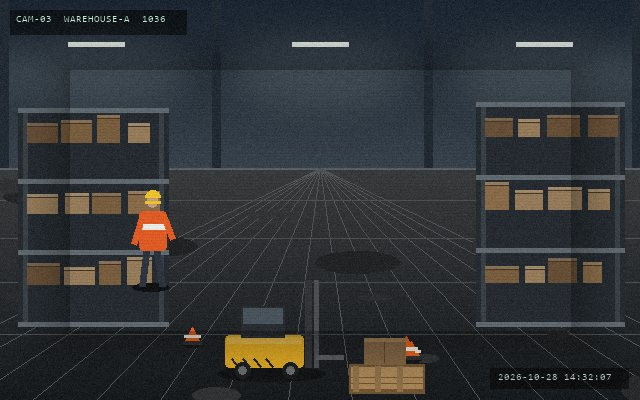cone: (393, 334, 419, 362), (400, 339, 422, 362), (182, 325, 202, 347)
forklift: (221, 278, 345, 381)
pallet: (347, 362, 426, 395)
person: (131, 188, 175, 290)
shelf: (476, 102, 624, 322), (18, 108, 168, 322)
